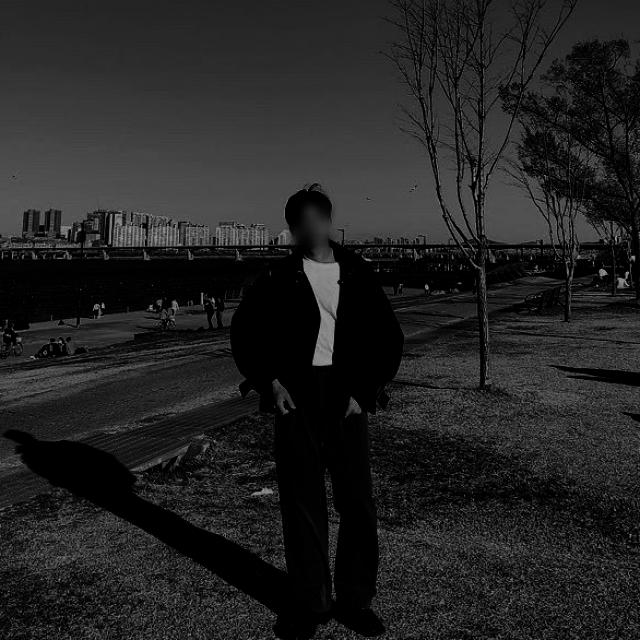jacket: (228, 249, 402, 425)
slacks: (273, 359, 377, 610)
